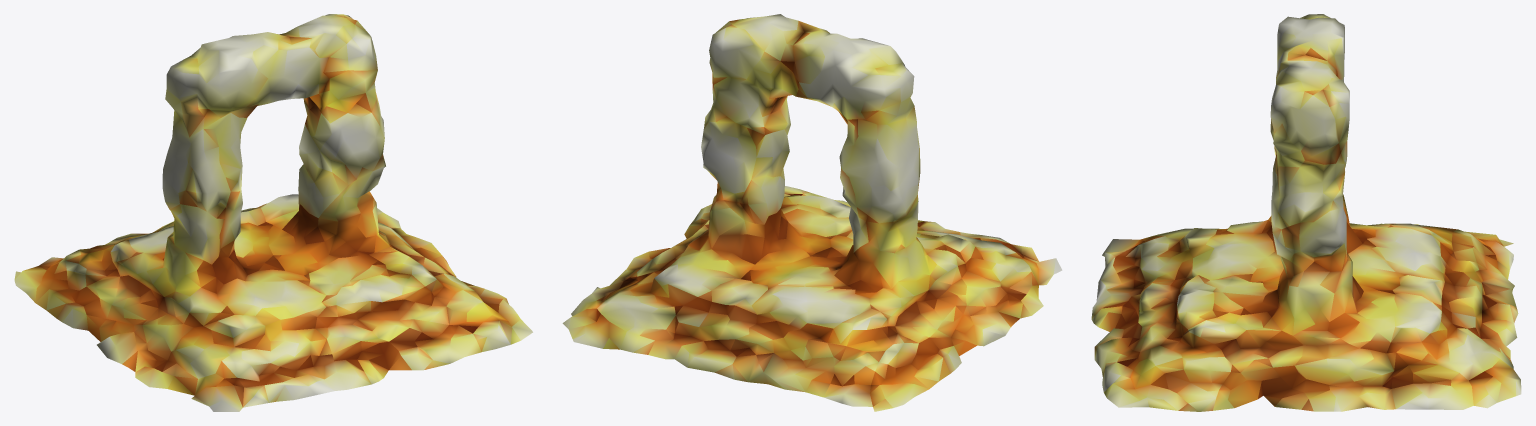
Rendered from PortalSquare_Low.fbx.
The picture shows the model from 3 angles, left to right: view 1: azimuth 30°, elevation 25°; view 2: azimuth 150°, elevation 25°; view 3: azimuth 270°, elevation 25°; orthographic projection. The views are drawn at different scales.
Visible parts, largest first — view 1: PortalQuadLow; view 2: PortalQuadLow; view 3: PortalQuadLow.
Part boxes in pixels (x1,y1,x2,y2): PortalQuadLow: [14, 14, 532, 411]; PortalQuadLow: [562, 14, 1062, 411]; PortalQuadLow: [1091, 14, 1521, 411].
Bounding box in the file's own units: 20.92 × 15.19 × 21.27.
